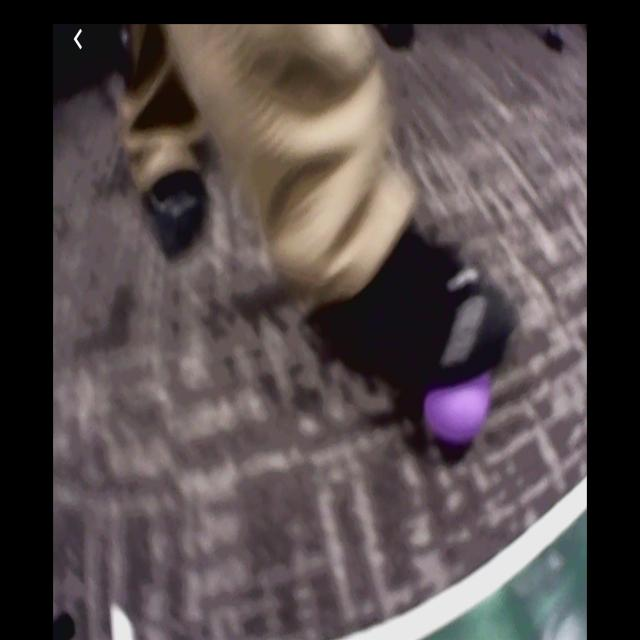ball: (429, 365, 493, 443)
